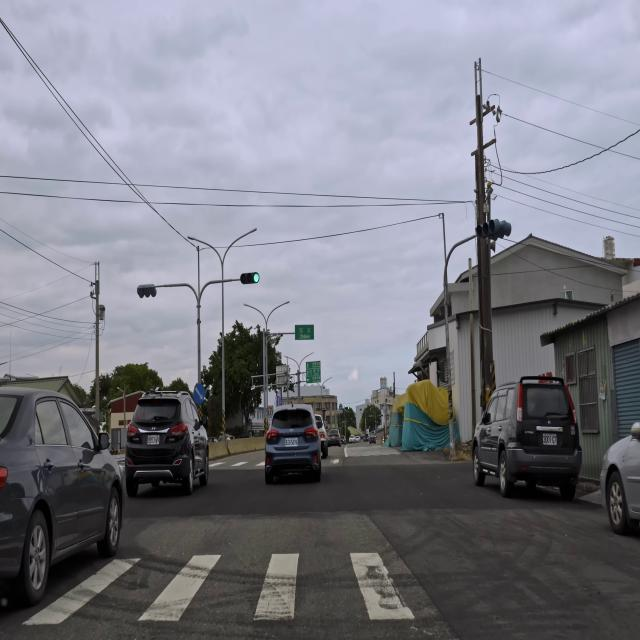green light: (240, 272, 260, 284)
